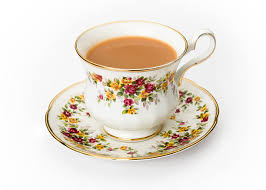cup: (74, 18, 220, 142)
